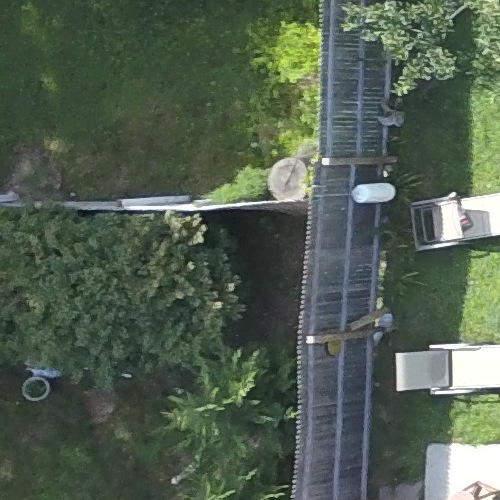container: (20, 370, 57, 404)
